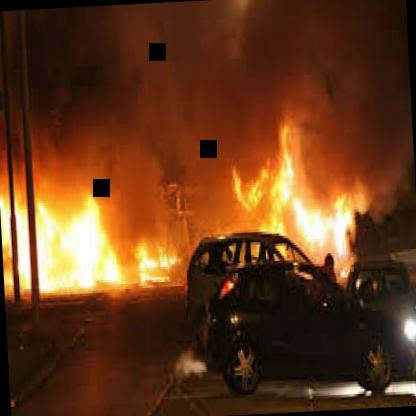fire: (231, 117, 351, 267), (0, 181, 139, 287)
